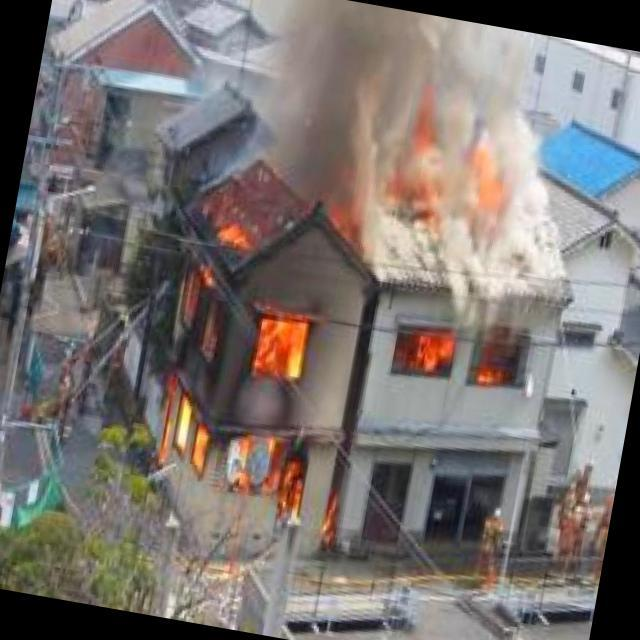Fire: (124, 160, 368, 528), (399, 146, 514, 242), (400, 320, 541, 393)
